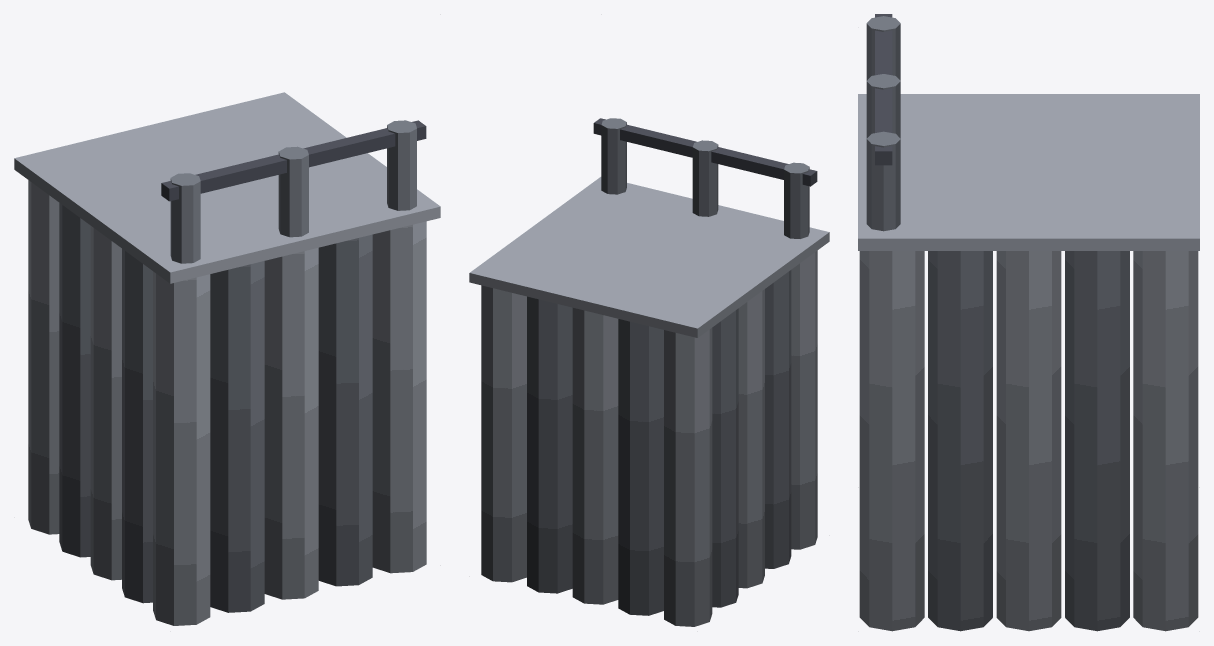
The model's file is perimeter_wall_metal_f11.glb.
3 renders of one model, left to right at view 1: azimuth 30°, elevation 25°; view 2: azimuth 150°, elevation 25°; view 3: azimuth 270°, elevation 25°, orthographic. The views are drawn at different scales.
Bounding box in the file's own units: 2 × 3.9 × 2.
Materials: 1 (1 with a texture image).
